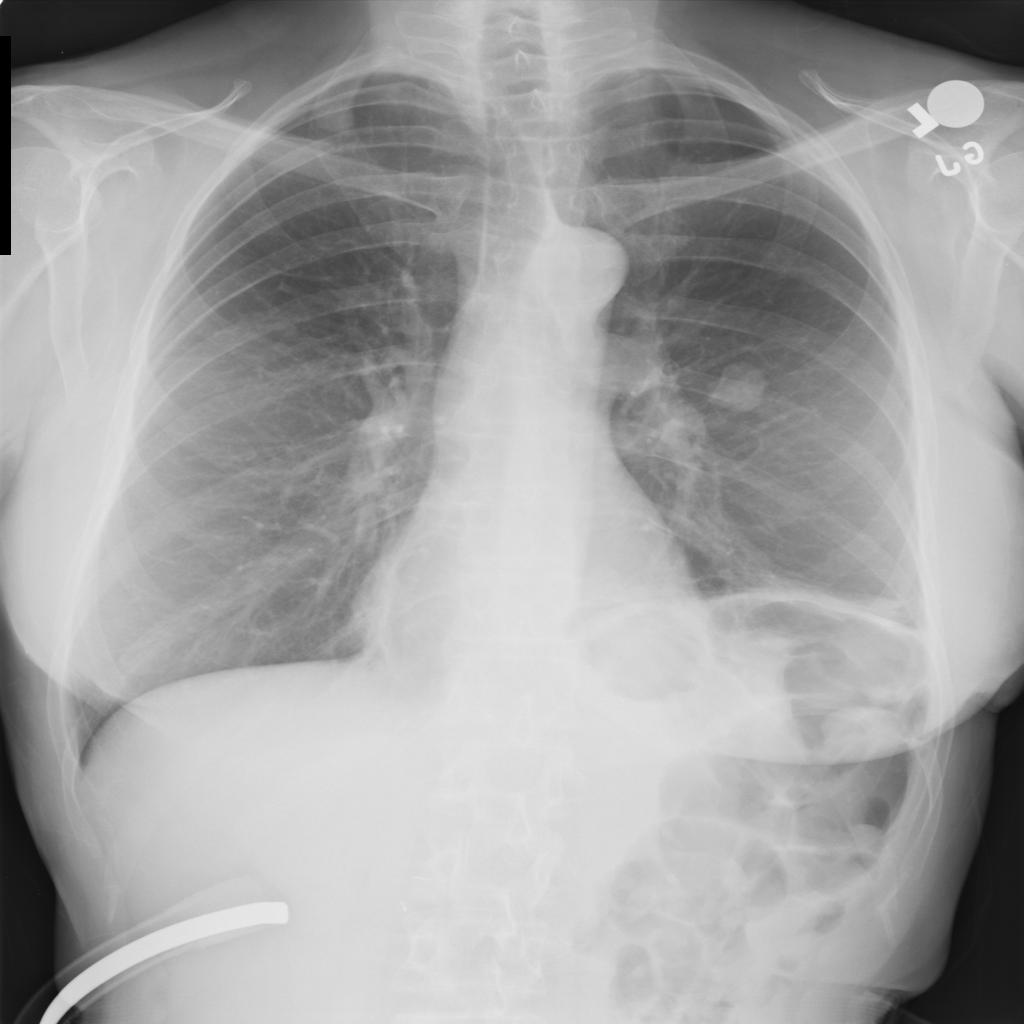nodule: (699, 351, 783, 422)
